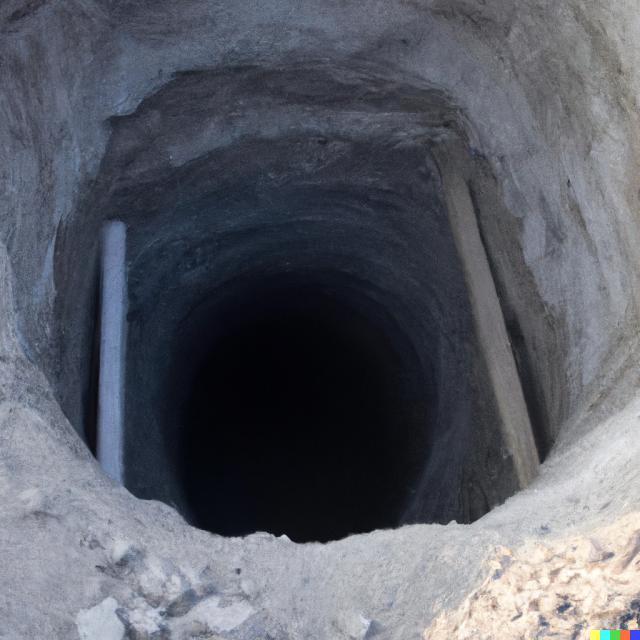hole: (56, 68, 559, 543)
